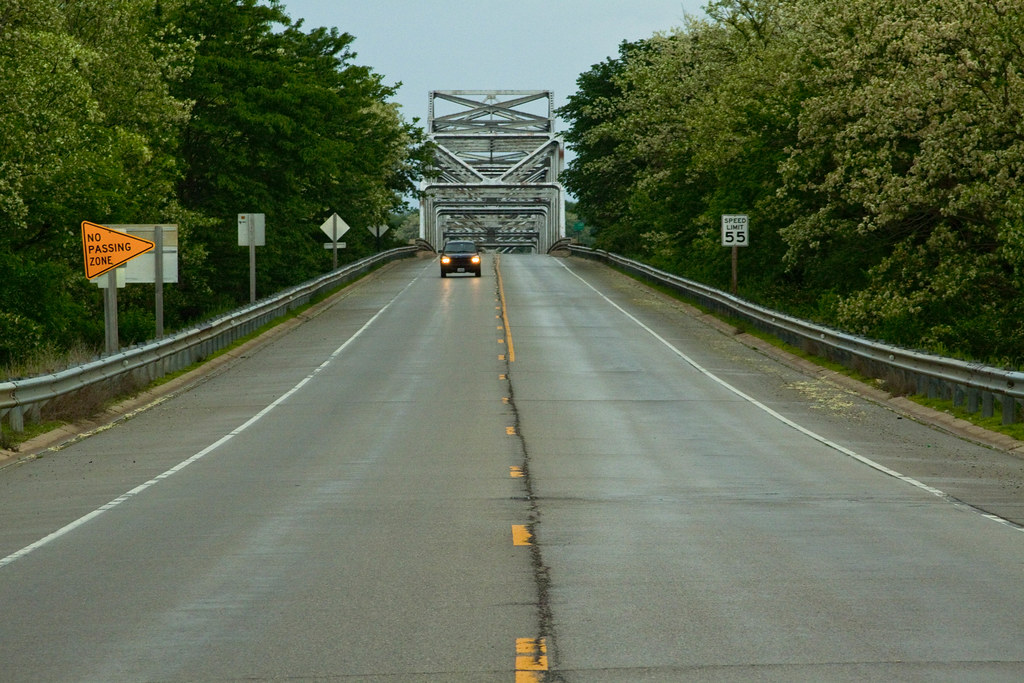bridge: (418, 86, 569, 253)
